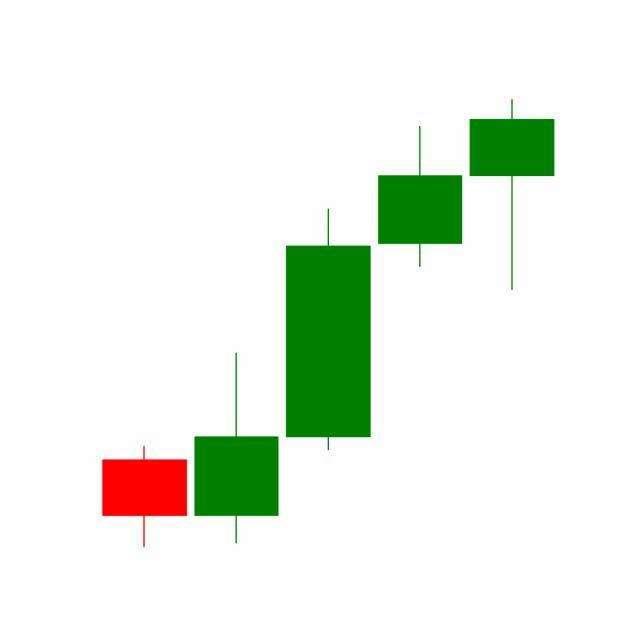Advance Block: (280, 99, 555, 455)
